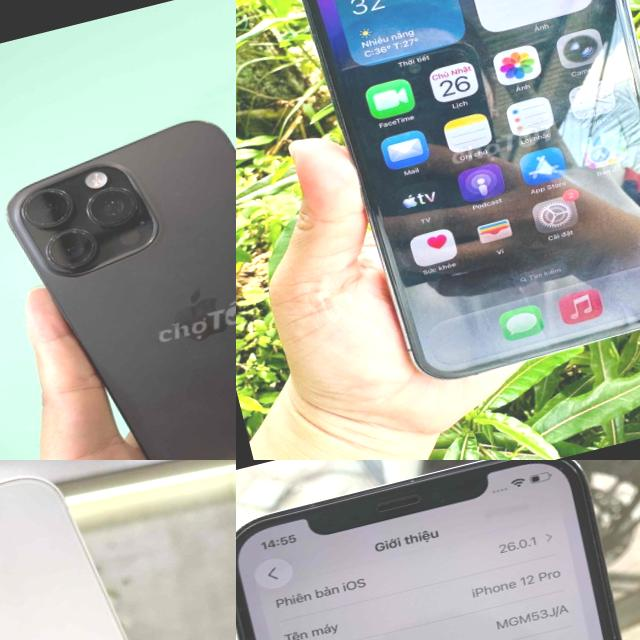gen_12_13: (236, 460, 640, 640), (0, 460, 233, 640)
gen_14: (253, 0, 640, 414)
gen_16: (7, 121, 236, 460)
